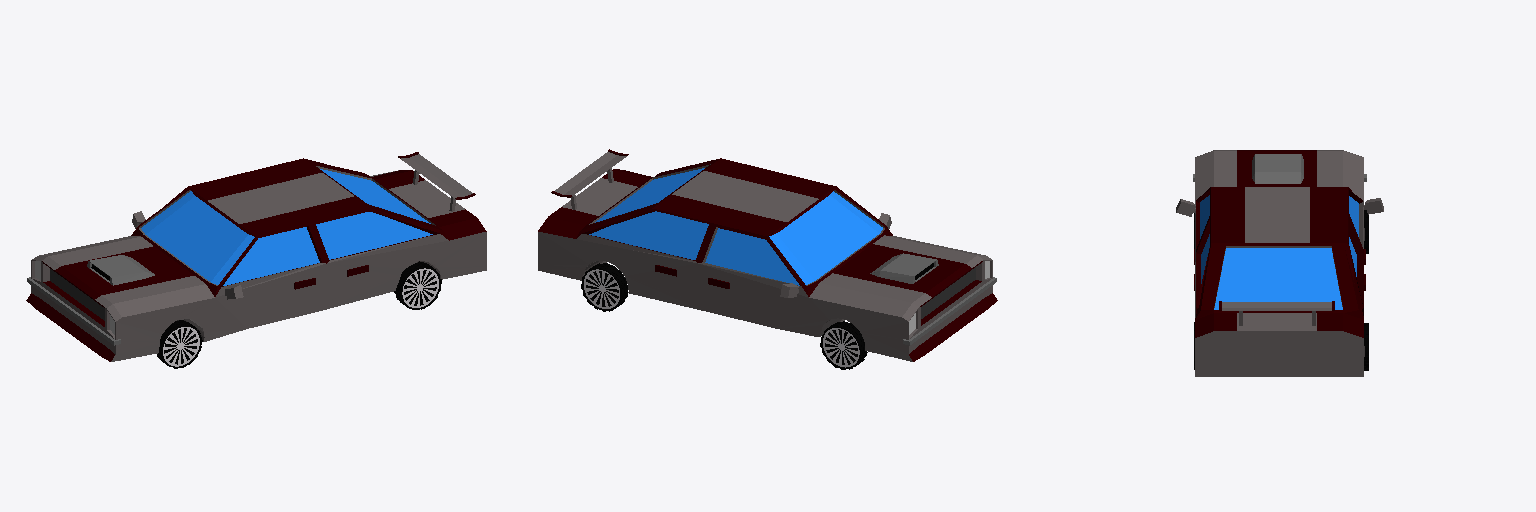
The model's file is teste1.obj.
3 views of the same model, side by side, from view 1: azimuth 30°, elevation 25°; view 2: azimuth 150°, elevation 25°; view 3: azimuth 270°, elevation 25° (orthographic).
Visible parts, largest first — view 1: Cube, Cylinder.000_Cylinder.009, Cylinder.003_Cylinder.010, Cube.009_Cube.013, Plane.001, Cube.001; view 2: Cube, Cylinder.002_Cylinder.008, Cylinder.004, Cube.009_Cube.013, Plane.001, Cube.001; view 3: Cube, Cube.009_Cube.013, Plane.001.
Boxes of the visible parts, x1=… form: Cube: x1=26, y1=158, x2=486, y2=361; Cylinder.000_Cylinder.009: x1=394, y1=261, x2=441, y2=309; Cylinder.003_Cylinder.010: x1=157, y1=320, x2=202, y2=368; Cube.009_Cube.013: x1=87, y1=255, x2=154, y2=285; Plane.001: x1=398, y1=152, x2=475, y2=199; Cube.001: x1=27, y1=277, x2=120, y2=345; Cube: x1=538, y1=158, x2=997, y2=361; Cylinder.002_Cylinder.008: x1=581, y1=263, x2=627, y2=311; Cylinder.004: x1=820, y1=321, x2=867, y2=369; Cube.009_Cube.013: x1=870, y1=253, x2=938, y2=283; Plane.001: x1=551, y1=149, x2=628, y2=197; Cube.001: x1=903, y1=277, x2=996, y2=345; Cube: x1=1195, y1=150, x2=1364, y2=376; Cube.009_Cube.013: x1=1252, y1=154, x2=1303, y2=183; Plane.001: x1=1219, y1=301, x2=1334, y2=310.
Size of the model in its own units: 6.5 by 1.73 by 3.09.